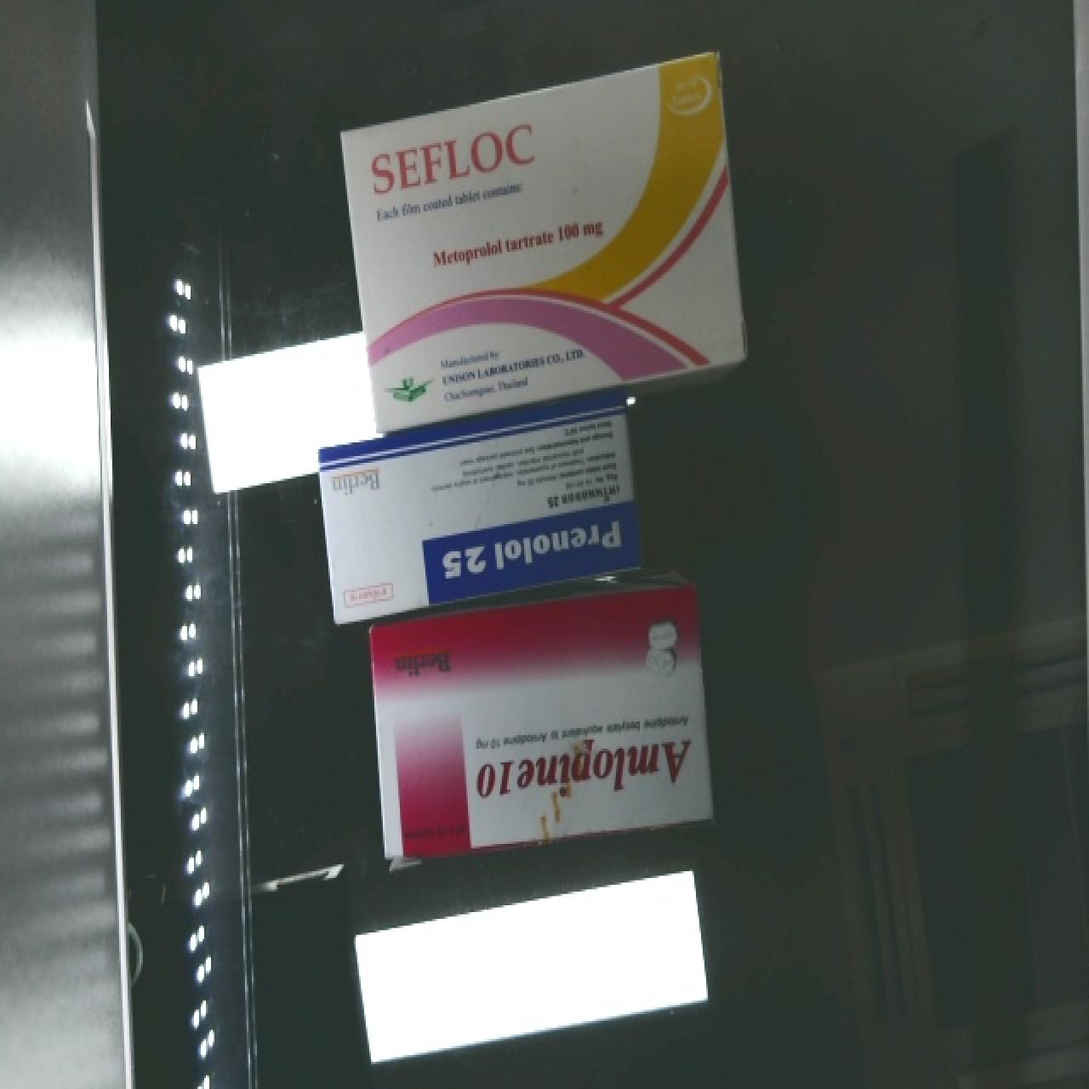medicine_label_obb: (456, 713, 713, 825), (340, 98, 554, 217), (422, 501, 645, 603)
